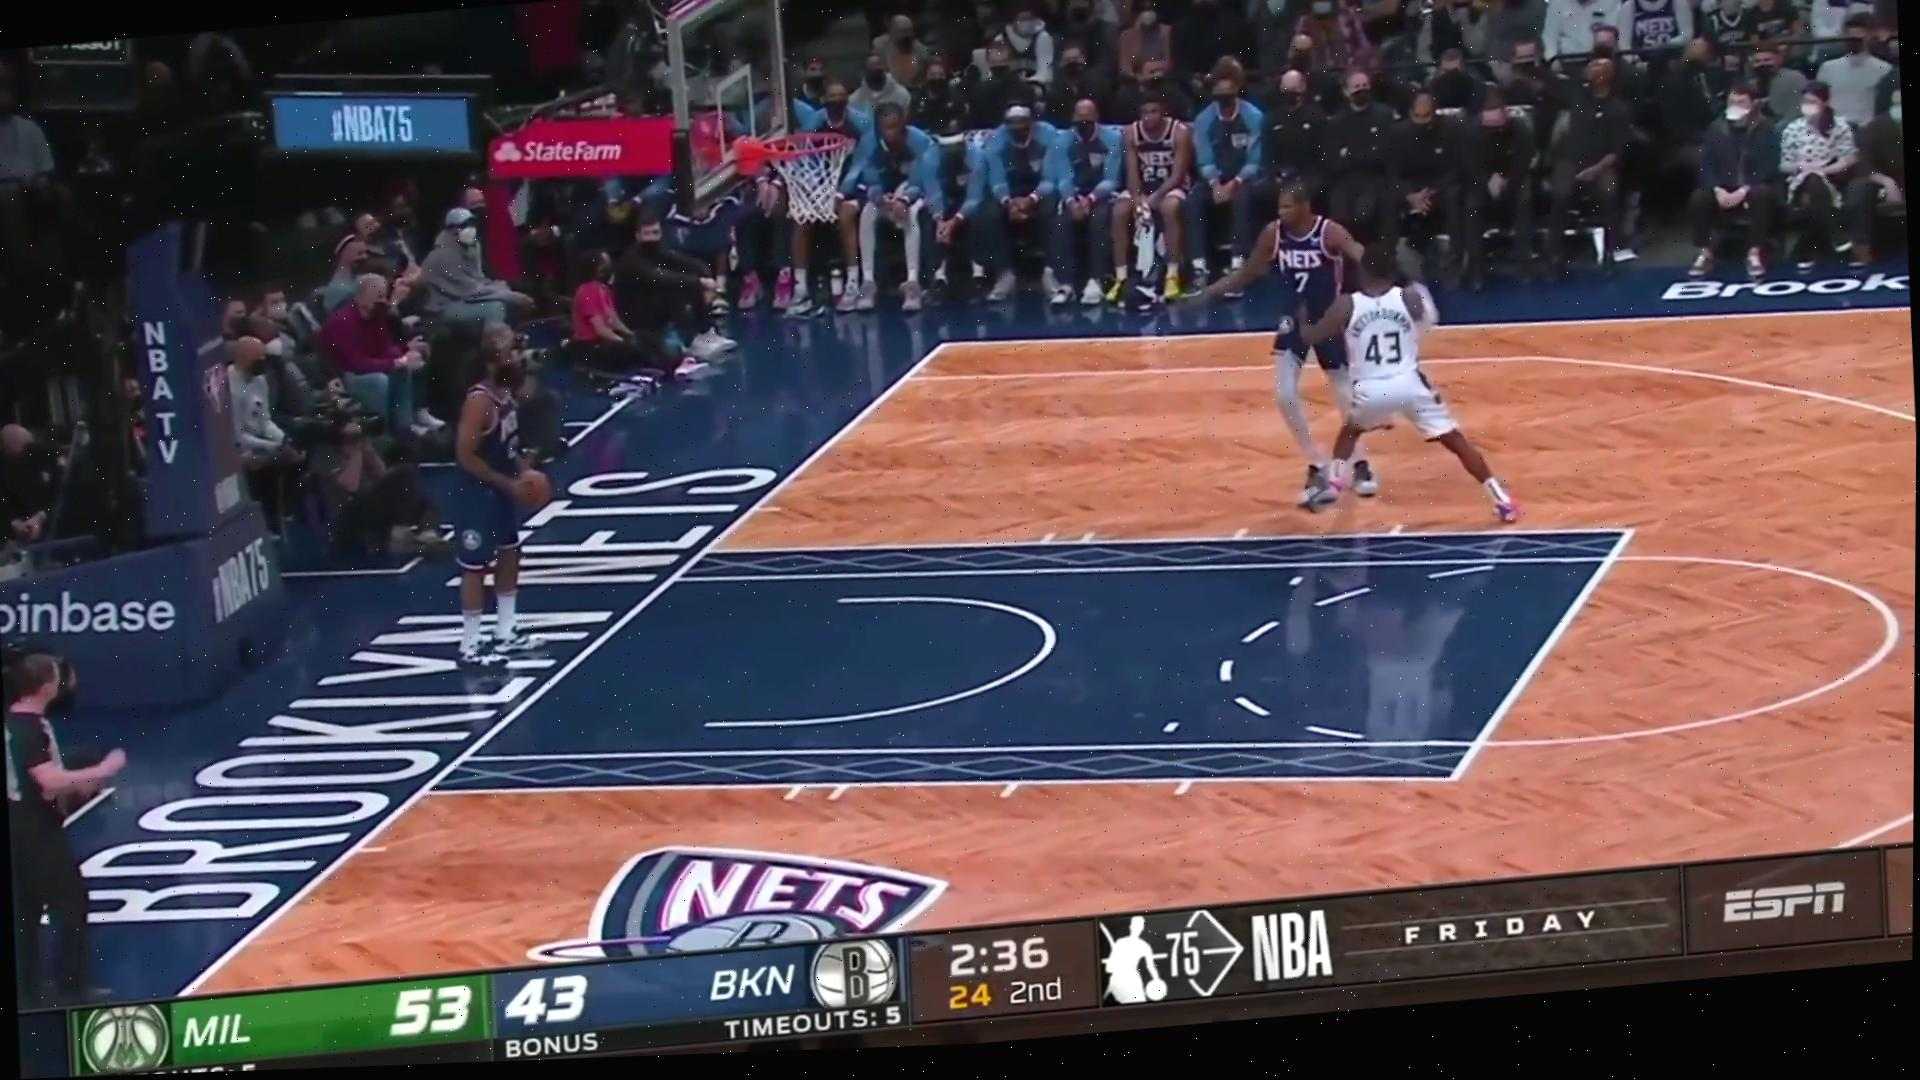foul: (1222, 161, 1476, 520)
